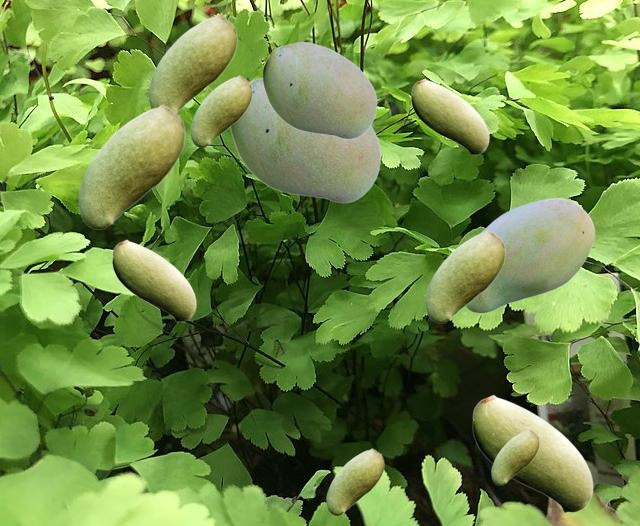green_mango: (230, 77, 380, 202), (466, 198, 594, 311), (472, 394, 592, 512), (78, 104, 184, 228), (262, 41, 376, 138), (148, 14, 236, 112), (425, 230, 504, 322), (112, 239, 195, 321), (411, 78, 488, 154), (190, 75, 251, 146), (326, 448, 383, 514), (491, 429, 538, 484)
